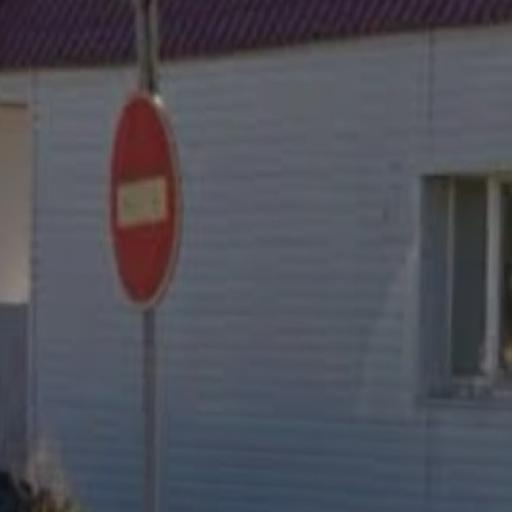traffic_sign: (107, 93, 181, 312)
